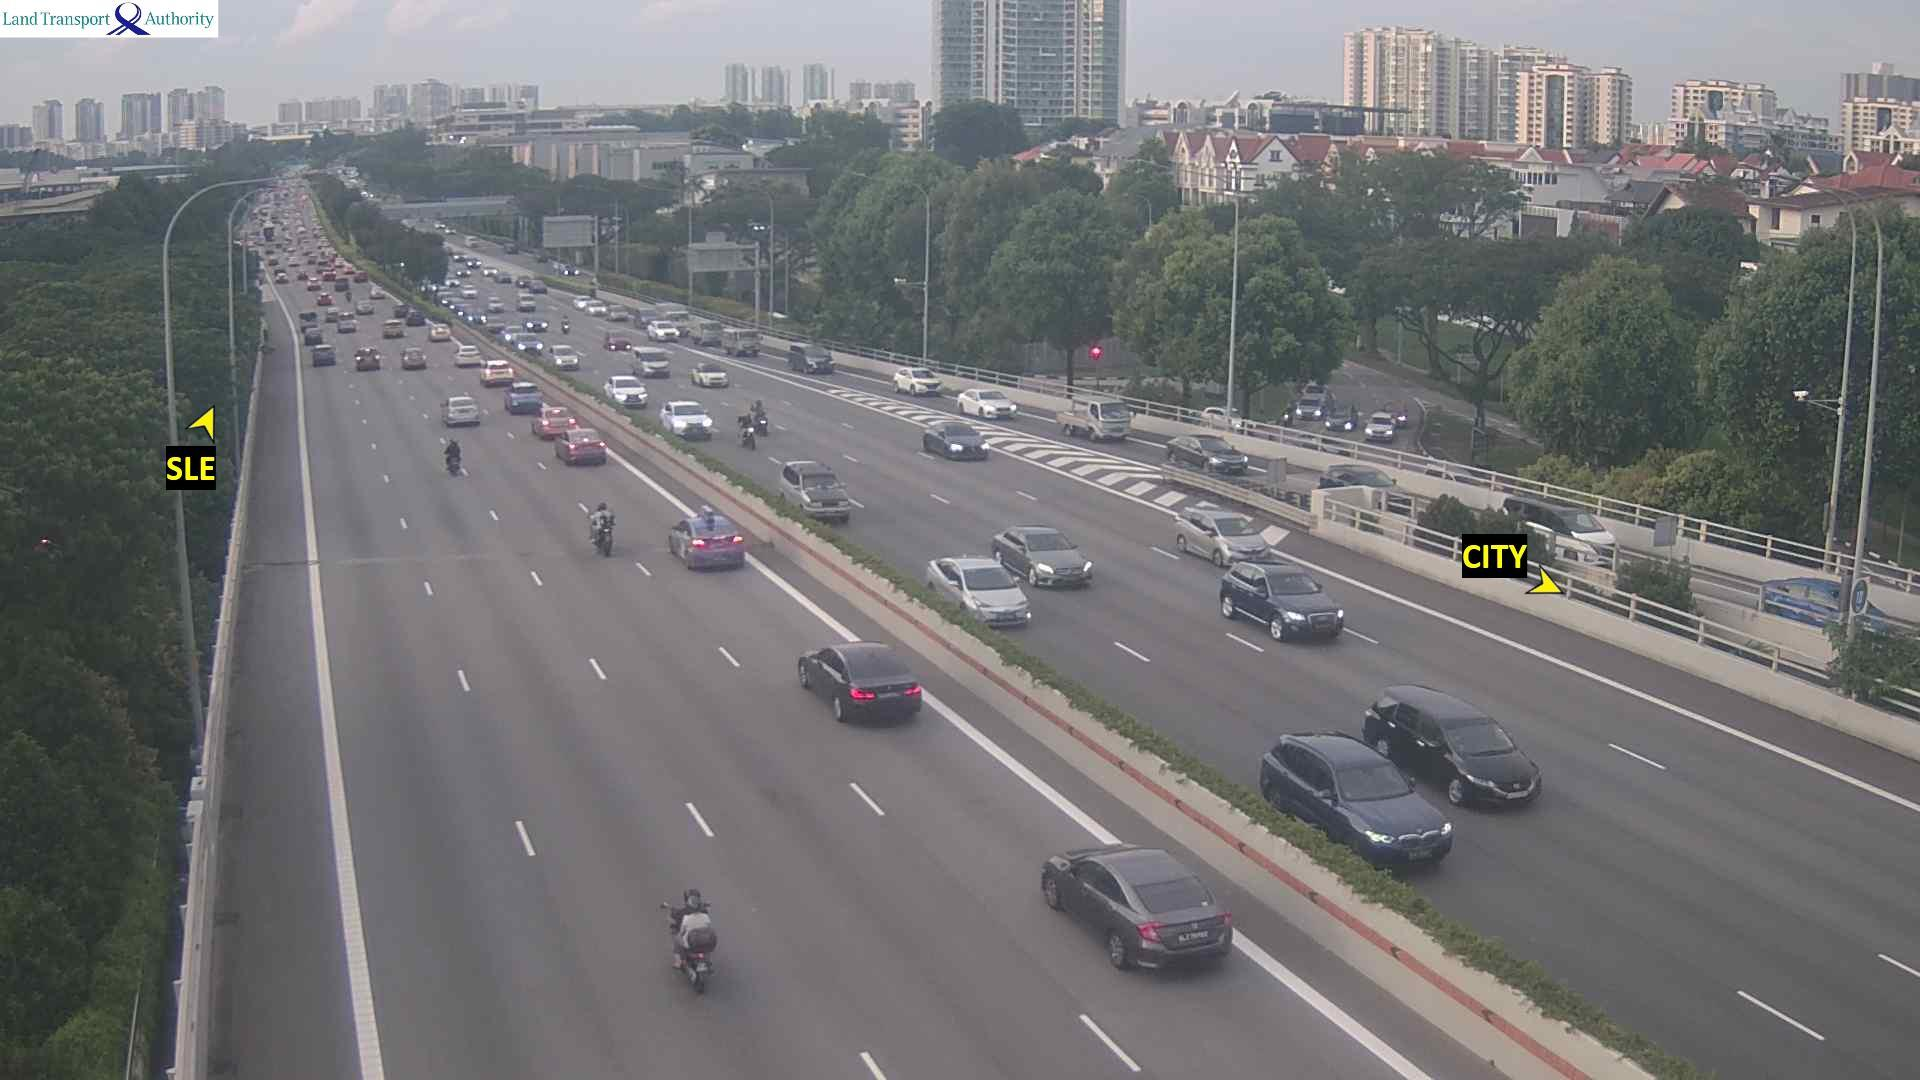incoming: (1319, 762, 1452, 865), (1427, 720, 1544, 807), (1255, 575, 1344, 640), (949, 568, 1034, 624), (1015, 537, 1091, 588), (1561, 512, 1619, 568), (793, 471, 855, 524), (1207, 517, 1270, 566), (1193, 436, 1251, 475), (938, 425, 992, 463), (667, 405, 717, 440), (1092, 401, 1134, 440), (978, 390, 1019, 421), (636, 348, 674, 380), (611, 378, 650, 409), (799, 347, 836, 373), (733, 328, 765, 359), (907, 371, 945, 396), (698, 365, 735, 388), (698, 320, 725, 348), (553, 348, 582, 371), (650, 320, 680, 342), (516, 335, 546, 355), (607, 332, 632, 355), (518, 295, 539, 315), (608, 302, 630, 320), (527, 277, 550, 295), (487, 295, 508, 314), (588, 301, 608, 319), (742, 426, 758, 447), (525, 318, 549, 331), (758, 413, 770, 434)
